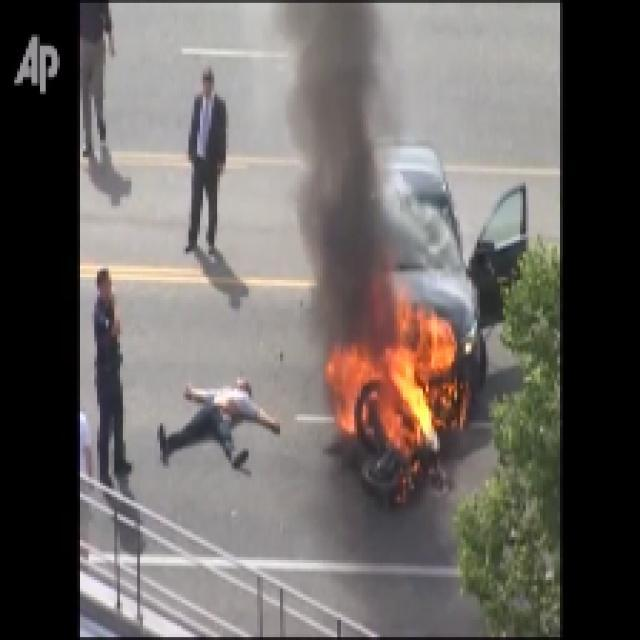Fire: (332, 339, 459, 444)
Smoke: (278, 4, 395, 334)
